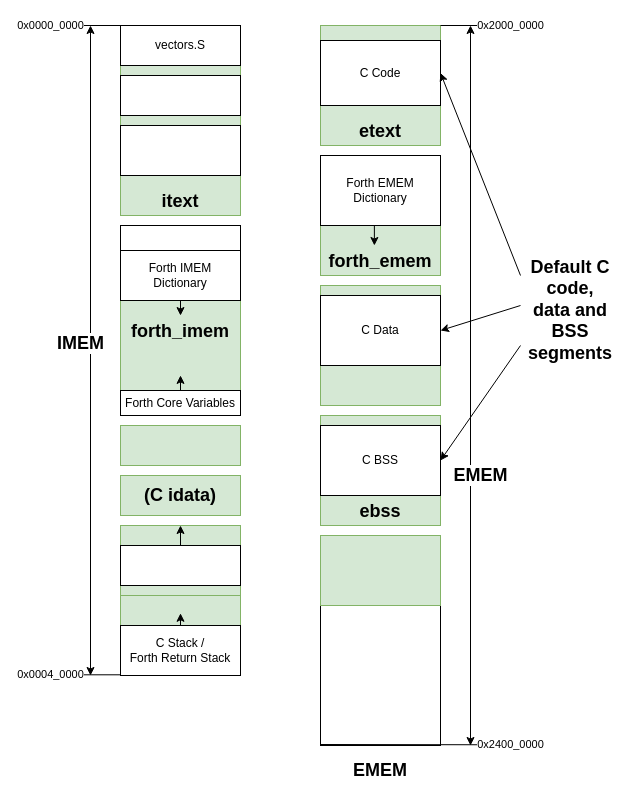
This 630x803 diagram has some shape labels left out. Each missing label, with the box of its shape:
(C ibss): (120, 424, 240, 466)
(itext C code): (120, 74, 240, 116)
C heap: (320, 534, 440, 606)
edata: (320, 284, 440, 406)
Forth Data Stack: (120, 544, 240, 586)
forth_core: (120, 124, 240, 176)
ramallot variables: (120, 224, 240, 250)
